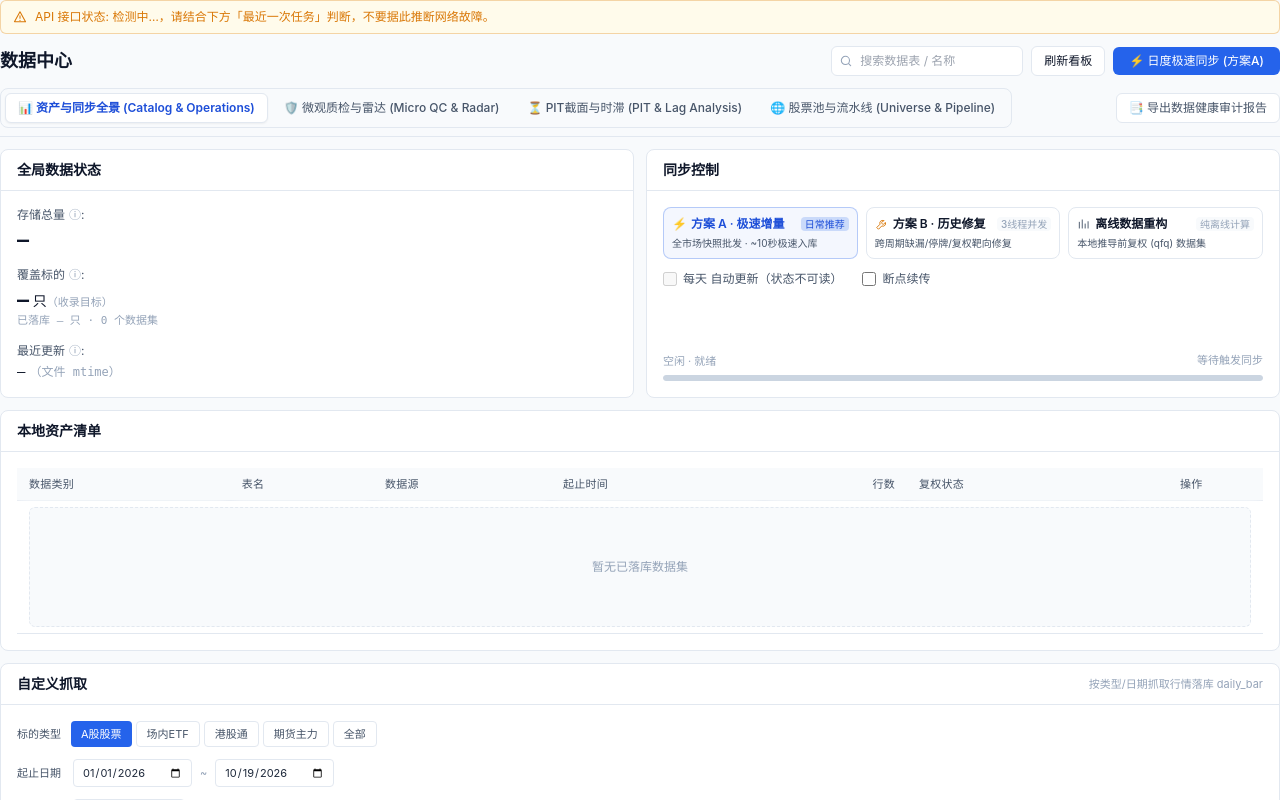
数据中心进化工作台 (DataCenter Evolution) › 切换到「股票池与流水线」Tab 成功渲染幸存者偏差与退市标的库
Click the button "🌐 股票池与流水线 (Universe & Pipeline)". click: (883, 108)
box: left=758, top=93, right=1007, bottom=123
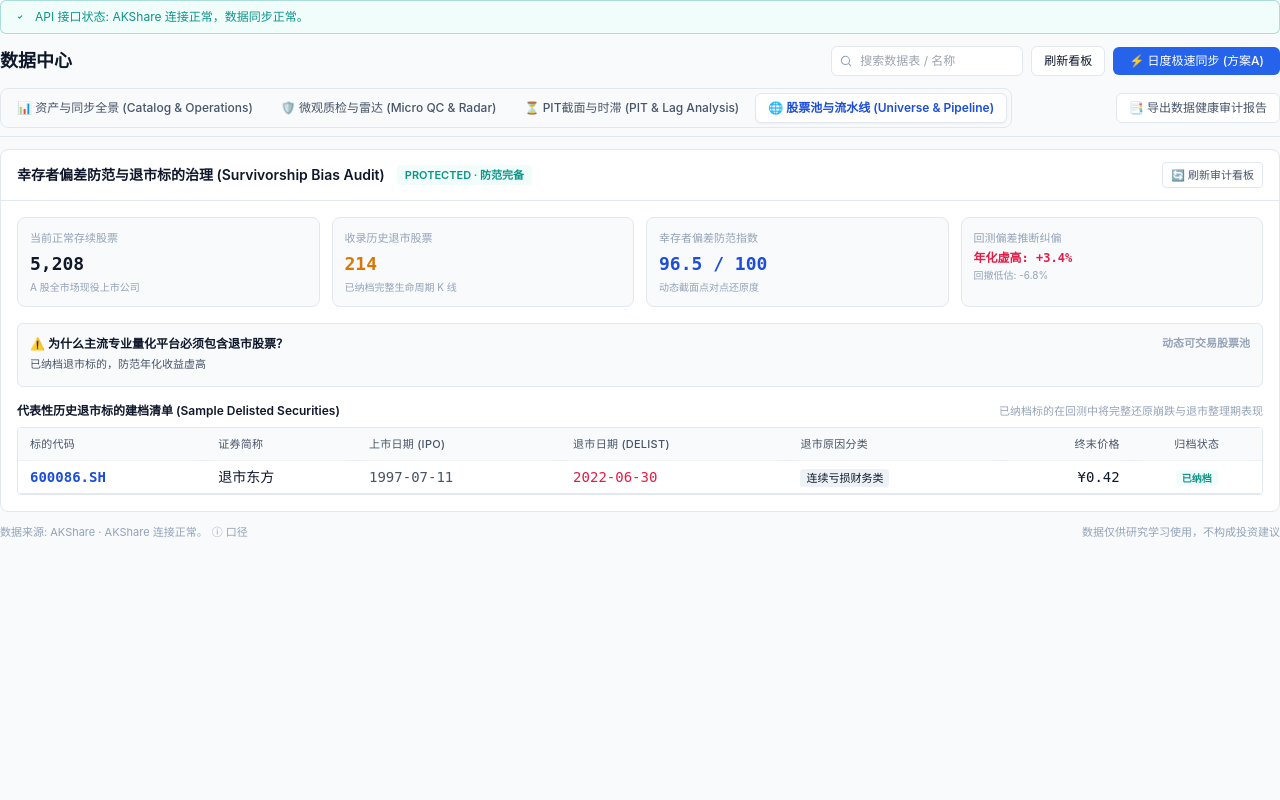
Expected: the heading "幸存者偏差防范与退市标的治理 (Survivorship Bias Audit)" is shown, left=17, top=165, right=385, bottom=185
Expected: the text "96.5 / 100" is shown, left=659, top=253, right=767, bottom=274
Expected: the text "退市东方" is shown, left=206, top=460, right=357, bottom=493
